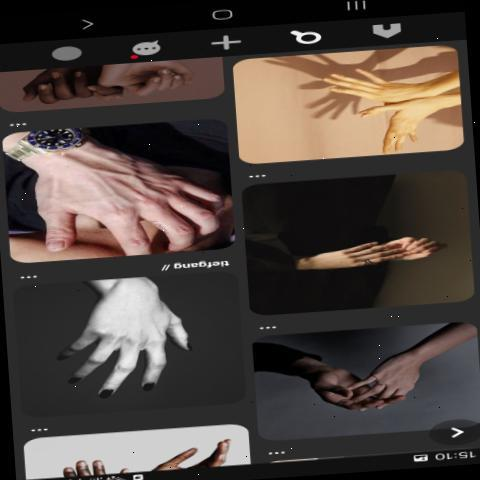Hands: (8, 136, 231, 253), (44, 284, 227, 406), (281, 223, 408, 276), (283, 64, 421, 106), (346, 349, 430, 416), (332, 104, 444, 149)
